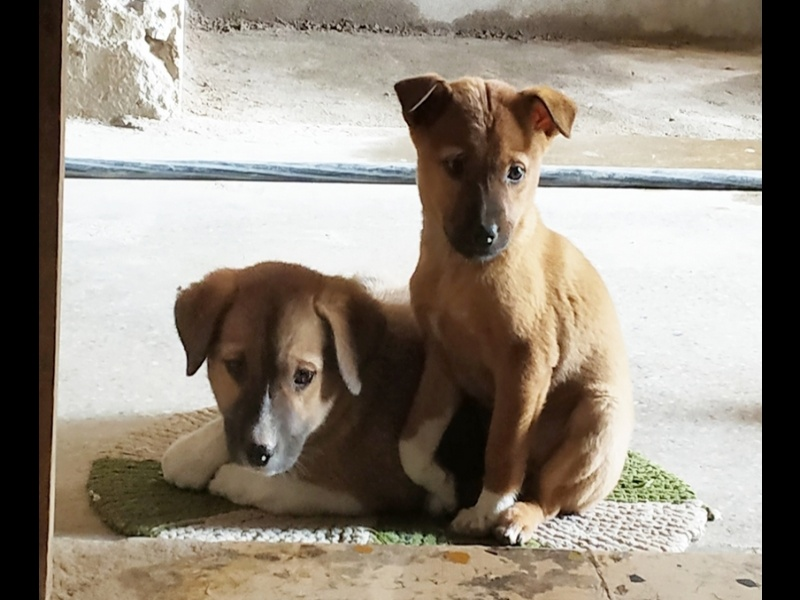dog: (389, 71, 642, 553), (147, 262, 446, 528)
